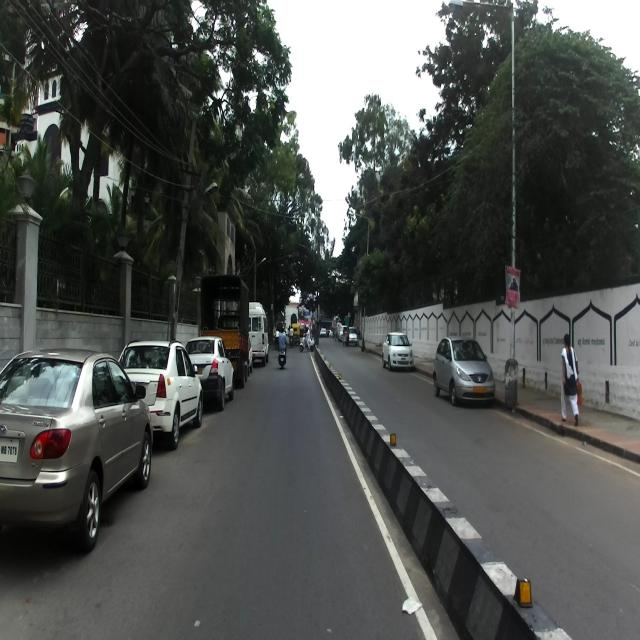car: (0, 347, 153, 553), (118, 339, 203, 452), (432, 336, 495, 407), (184, 336, 235, 416), (382, 329, 413, 370)
mini-bus: (248, 299, 270, 367)
truck: (199, 272, 251, 388)
